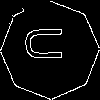U: (25, 25, 72, 63)
